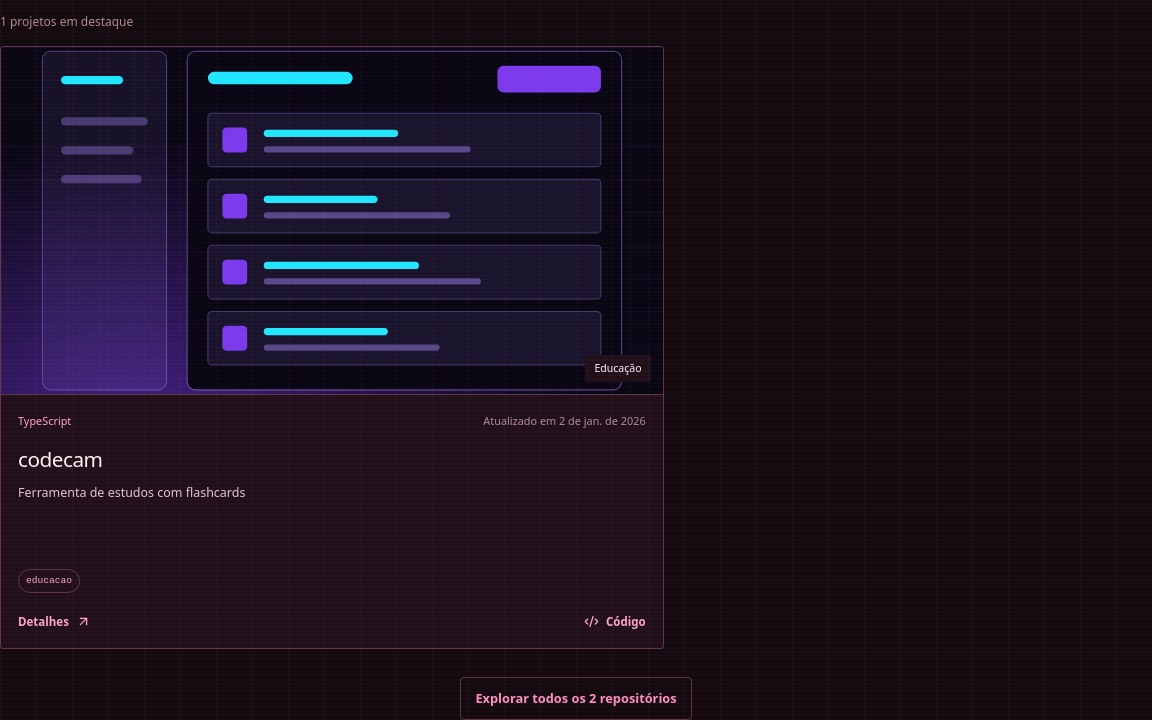
Test: exploração de projetos › busca projetos por tecnologia e atualiza a lista
(page scrolled)
Step 1. Click the button "Explorar todos os 2 repositórios" → [576, 699], box [460,677,692,719]
(page scrolled)
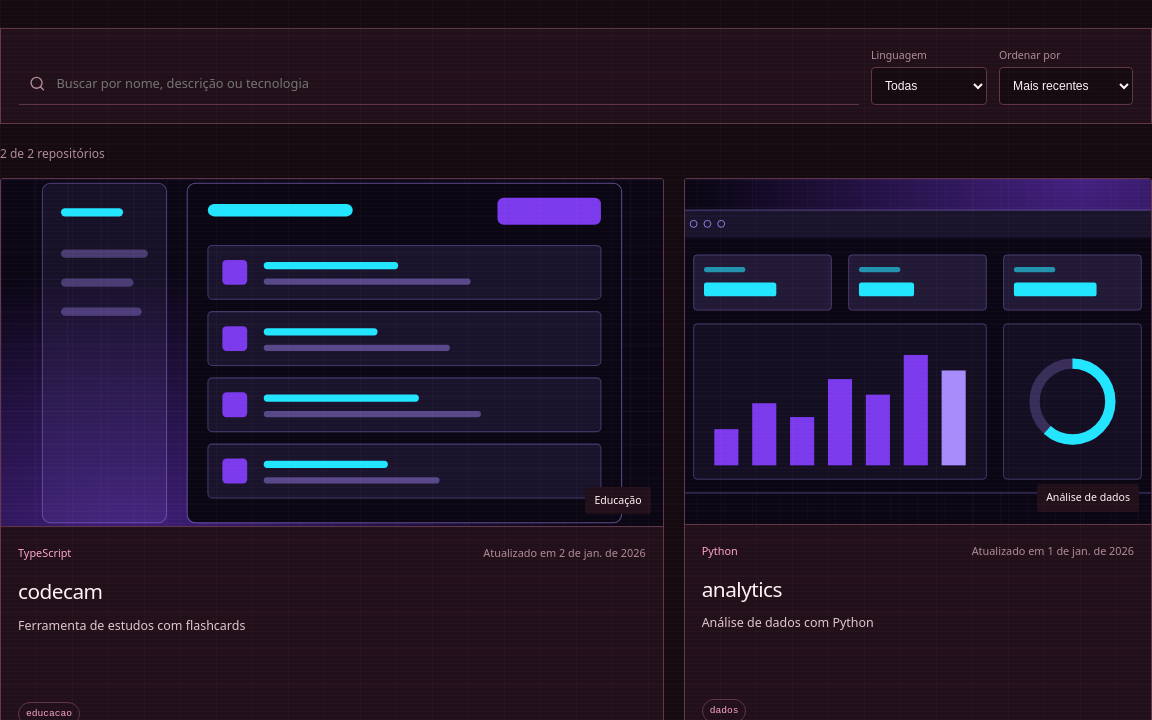
Step 2. Type "Python" into the search field named "Buscar nos projetos" → [452, 83], box [54,62,849,104]
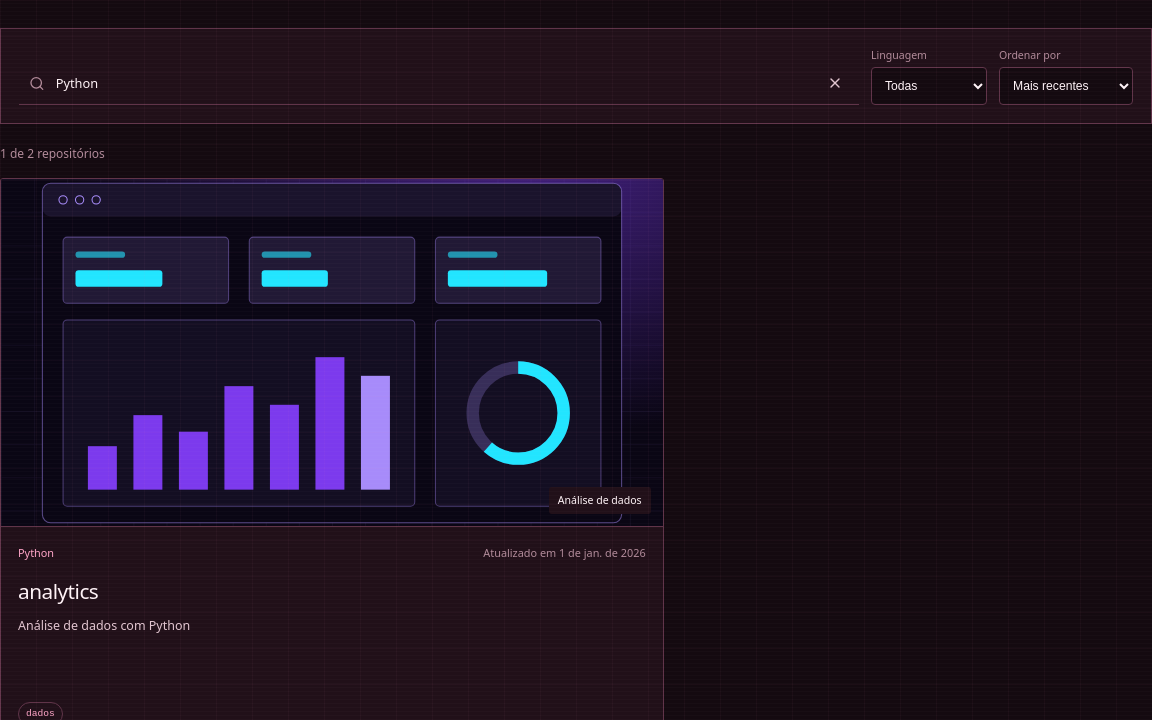
Expected: the heading "analytics" is shown, [18,577,98,605]
Expected: the link "codecam" is gone
Expected: the text "1 de 2 repositórios" is shown, [0,145,105,162]
